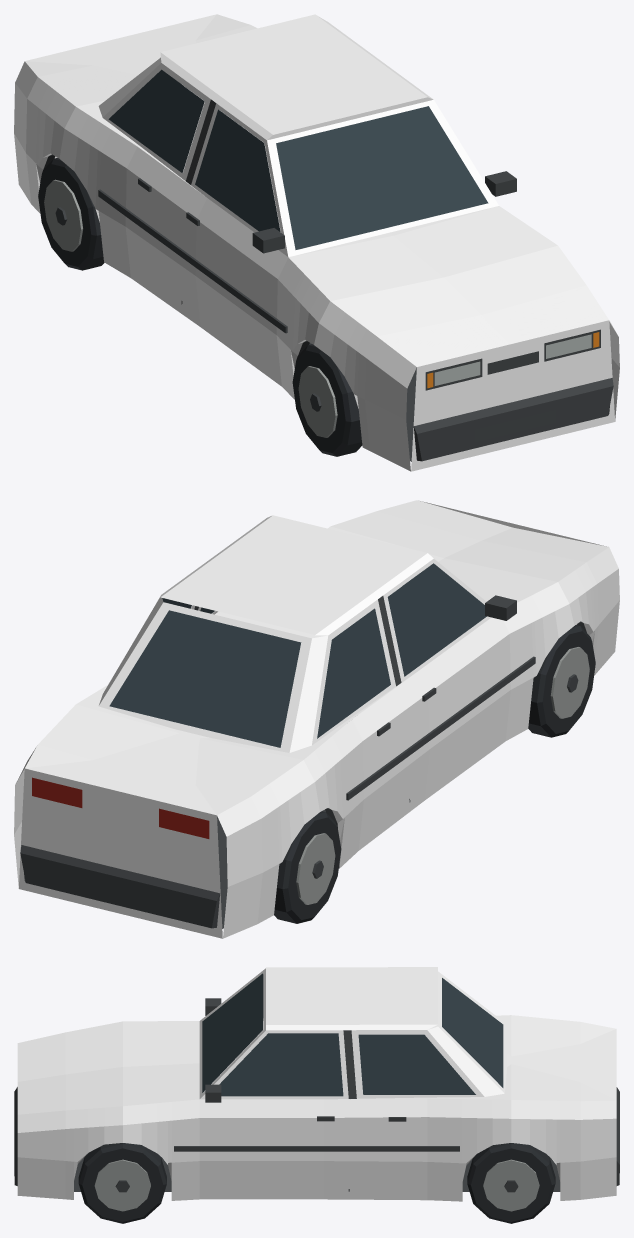
Rendered from sanga_mizore_98.glb.
The picture shows the model from 3 angles, top to bottom: view 1: azimuth 30°, elevation 25°; view 2: azimuth 150°, elevation 25°; view 3: azimuth 270°, elevation 25°; orthographic projection. The views are drawn at different scales.
Visible parts, largest first — view 1: sanga_mizore_98; view 2: sanga_mizore_98; view 3: sanga_mizore_98.
Boxes of the visible parts, bbox=[...] form: sanga_mizore_98: bbox=[14, 14, 619, 471]; sanga_mizore_98: bbox=[14, 500, 619, 938]; sanga_mizore_98: bbox=[14, 967, 619, 1223].
Bounding box in the file's own units: 1.7 × 1.49 × 4.49.
Materials: 8 (1 with a texture image).
